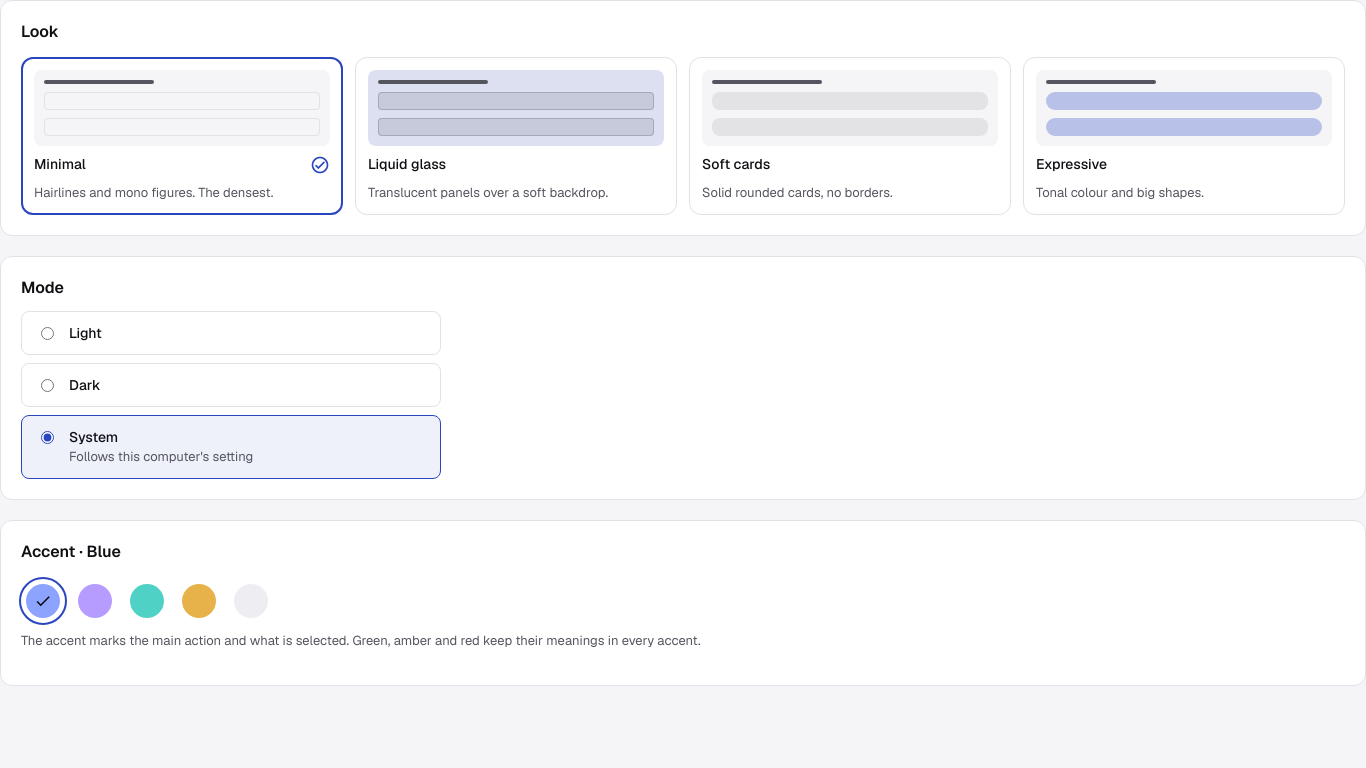
Test case: appearance › applies and keeps a choice in this browser
The width and height of the screenshot is (1366, 768).
Click the 1st radio button labelled "Liquid glass" at (516, 136), box x1=355 y1=57 x2=677 y2=215
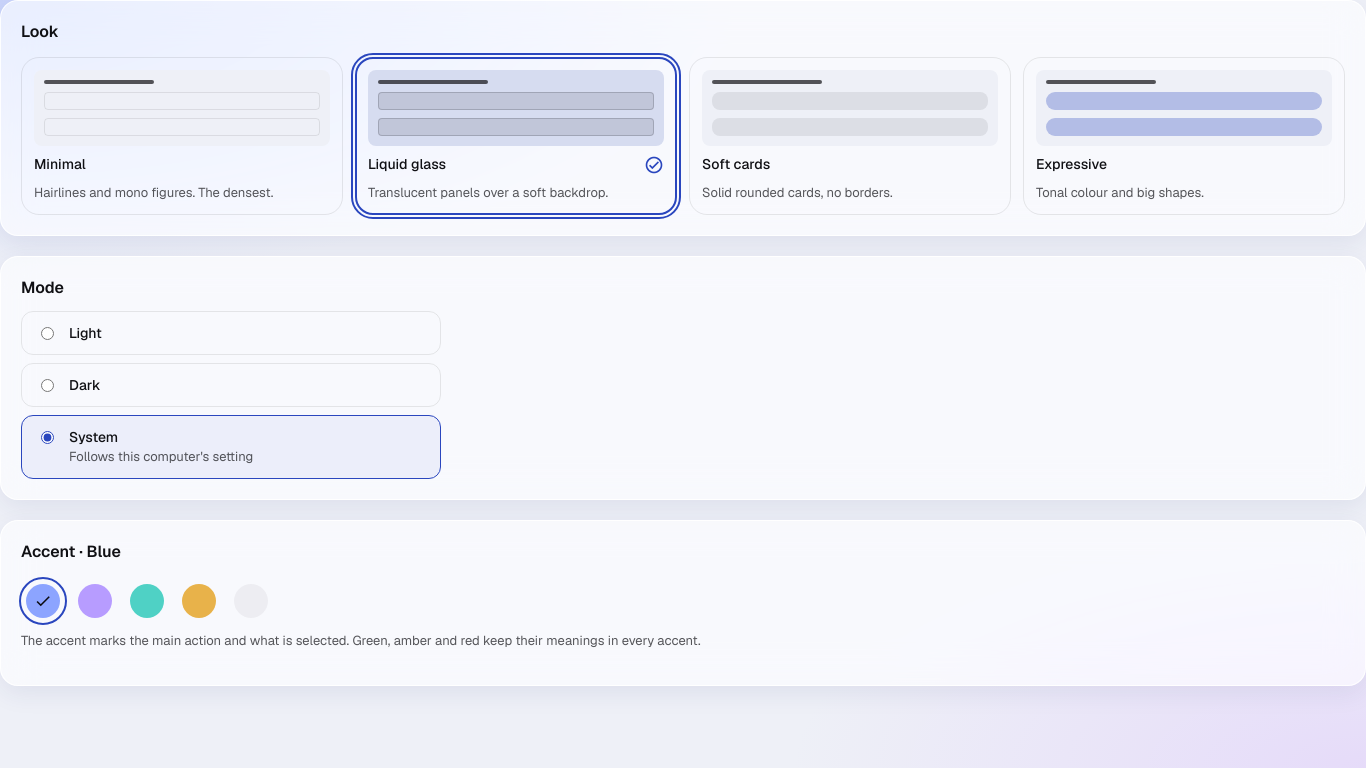
Click the radio button named "Violet" at (95, 601), box x1=78 y1=584 x2=112 y2=618
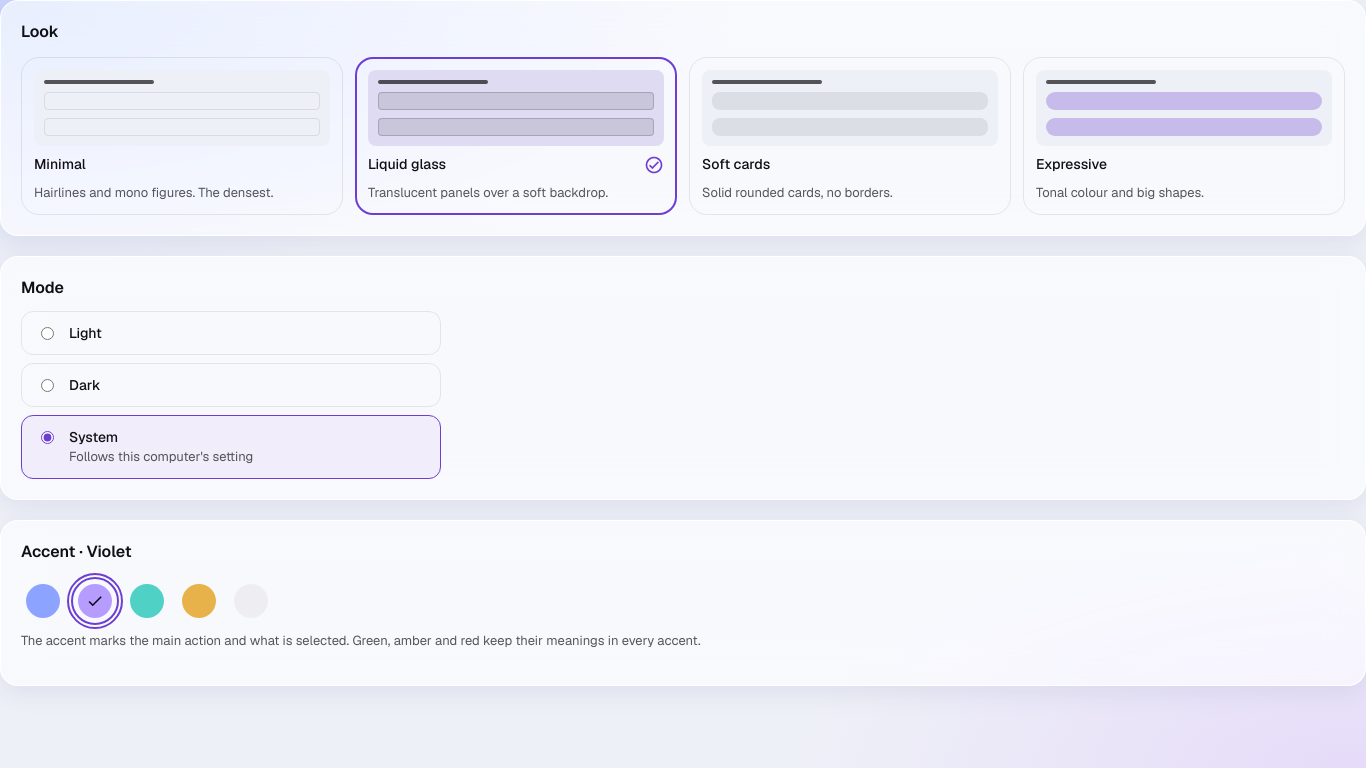
Expected: the 1st radio button labelled "Liquid glass" is checked, x1=355 y1=57 x2=677 y2=215
